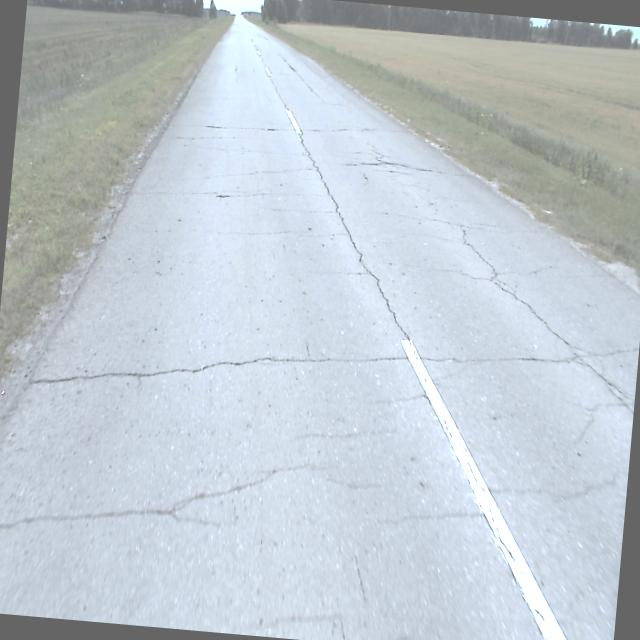road: (0, 14, 640, 640)
